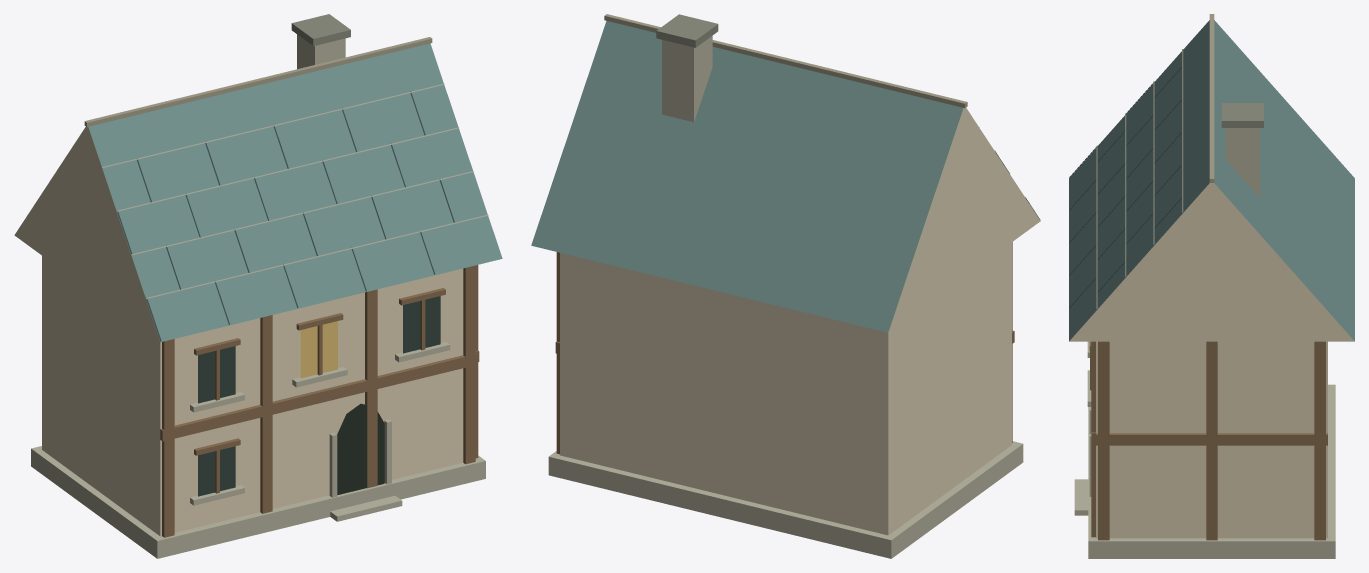
File: capital-house-slate.glb
3 renders of one model, left to right at view 1: azimuth 30°, elevation 25°; view 2: azimuth 150°, elevation 25°; view 3: azimuth 270°, elevation 25°, orthographic. The views are drawn at different scales.
Parts seen in each view (by area): view 1: Building; view 2: Building; view 3: Building.
Boxes of the visible parts, <box> form: Building: <box>14,14,502,558</box>; Building: <box>531,14,1040,558</box>; Building: <box>1069,14,1354,558</box>.
Size of the model in its own units: 101 by 116 by 74.
